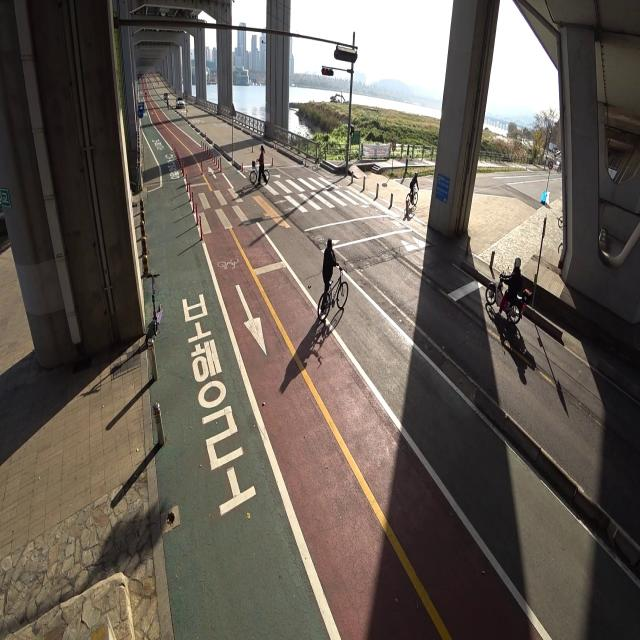Car: (174, 90, 186, 113), (162, 88, 169, 102)
Motorcycle: (486, 256, 531, 332)
